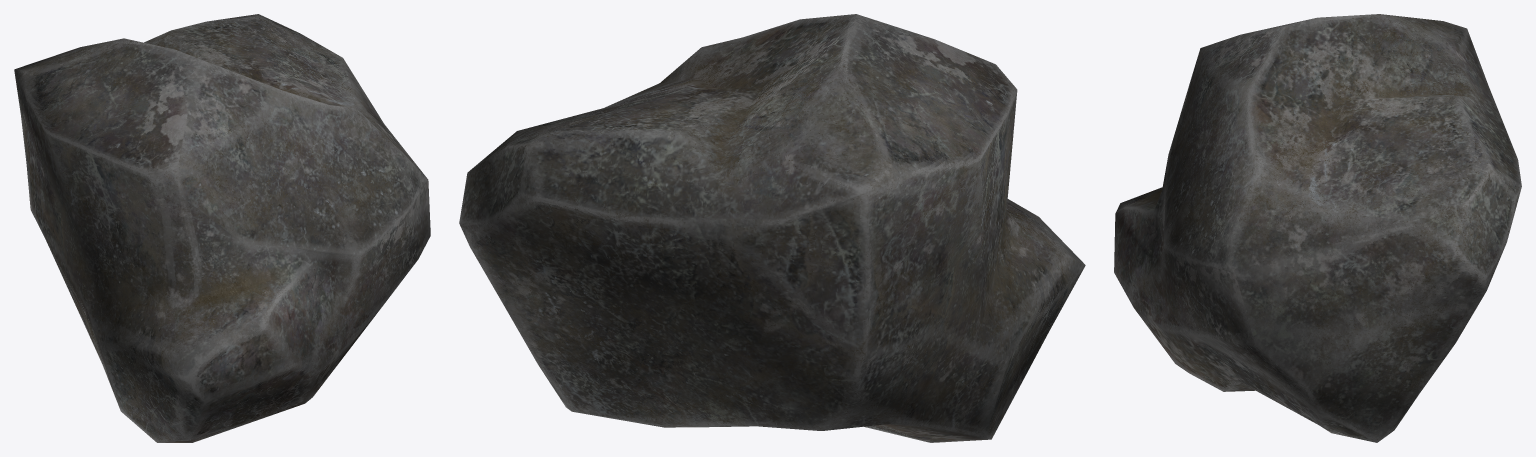
File: stone-origin.glb
3 renders of one model, left to right at view 1: azimuth 30°, elevation 25°; view 2: azimuth 150°, elevation 25°; view 3: azimuth 270°, elevation 25°, orthographic. The views are drawn at different scales.
Parts seen in each view (by area): view 1: Rock_H_01_Rock_H_01_Material_0; view 2: Rock_H_01_Rock_H_01_Material_0; view 3: Rock_H_01_Rock_H_01_Material_0.
Boxes of the visible parts, <box> form: Rock_H_01_Rock_H_01_Material_0: <box>14,14,430,442</box>; Rock_H_01_Rock_H_01_Material_0: <box>459,14,1085,442</box>; Rock_H_01_Rock_H_01_Material_0: <box>1114,14,1521,442</box>.
Bounding box in the file's own units: 179 × 171 × 180.
1 material, 1 textured.
